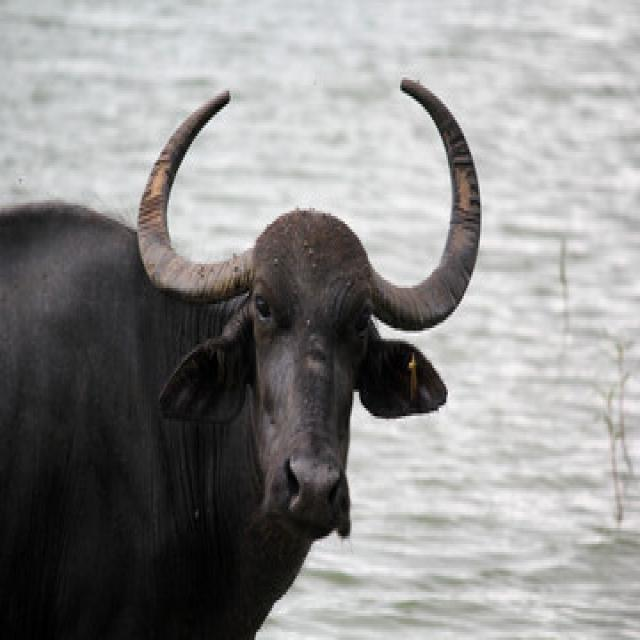Buffalo: (0, 72, 482, 637)
